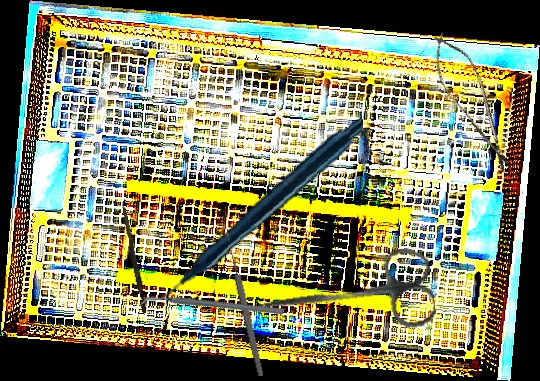Chopper: (139, 245, 286, 369)
Handpiece: (134, 118, 377, 301)
Iris Scissors: (255, 245, 438, 349)
Micro Scissor: (419, 24, 527, 181)
Pusher: (117, 201, 150, 314)
Surgical Spoon: (223, 231, 266, 378)
